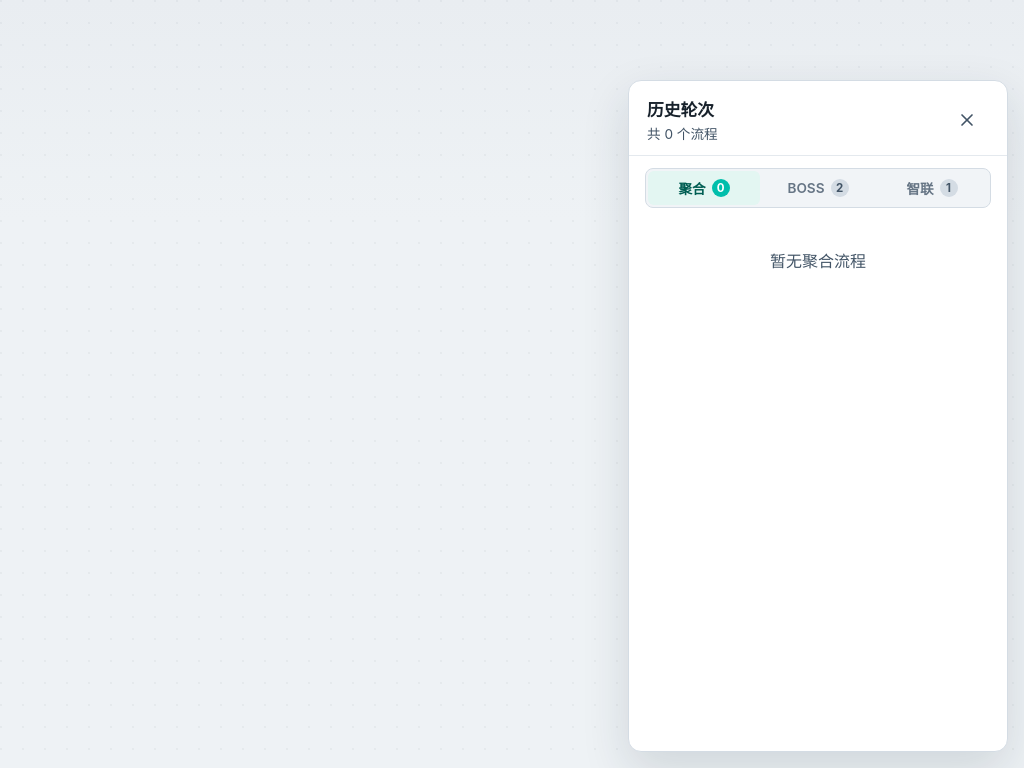
Test case: ResultHistoryDrawer › groups rounds by platform, maps machine statuses to Chinese, and marks latest
Click the tab with test id "history-platform-tab-boss".
click(818, 188)  # box [762, 171, 874, 205]
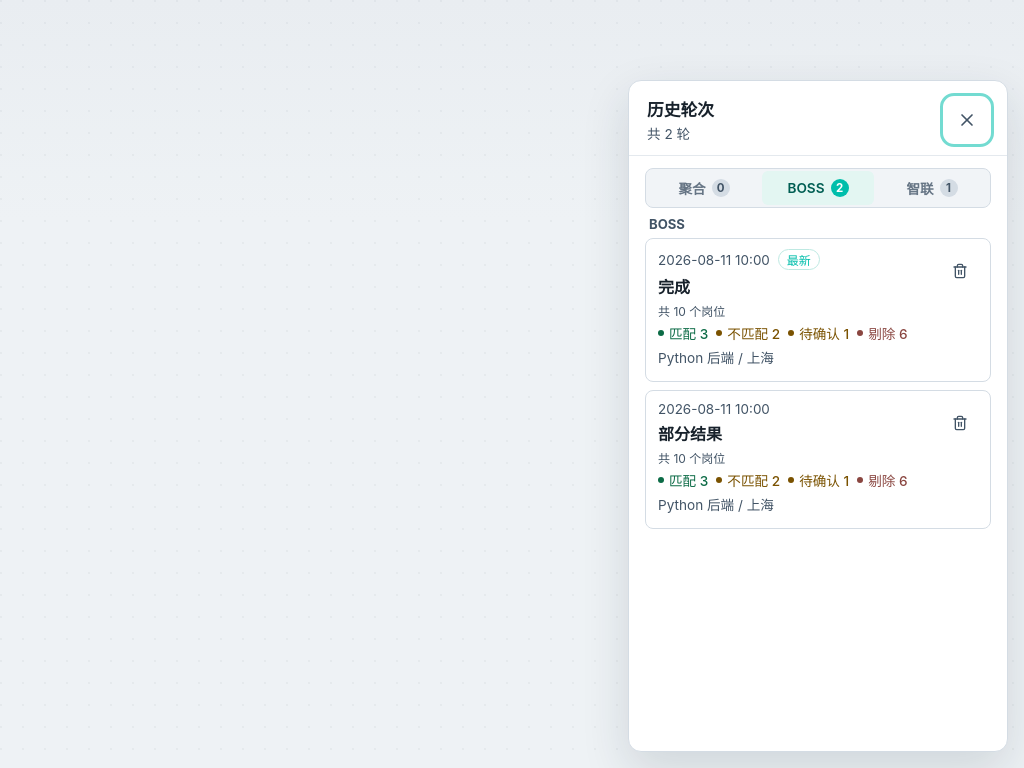
expect the button with test id "history-round-row" shows "完成": met, box [645, 238, 991, 382]
expect the button with test id "history-round-row" shows "部分结果": met, box [645, 390, 991, 529]
expect the number of elements with test id "history-latest-badge" is 2: met
